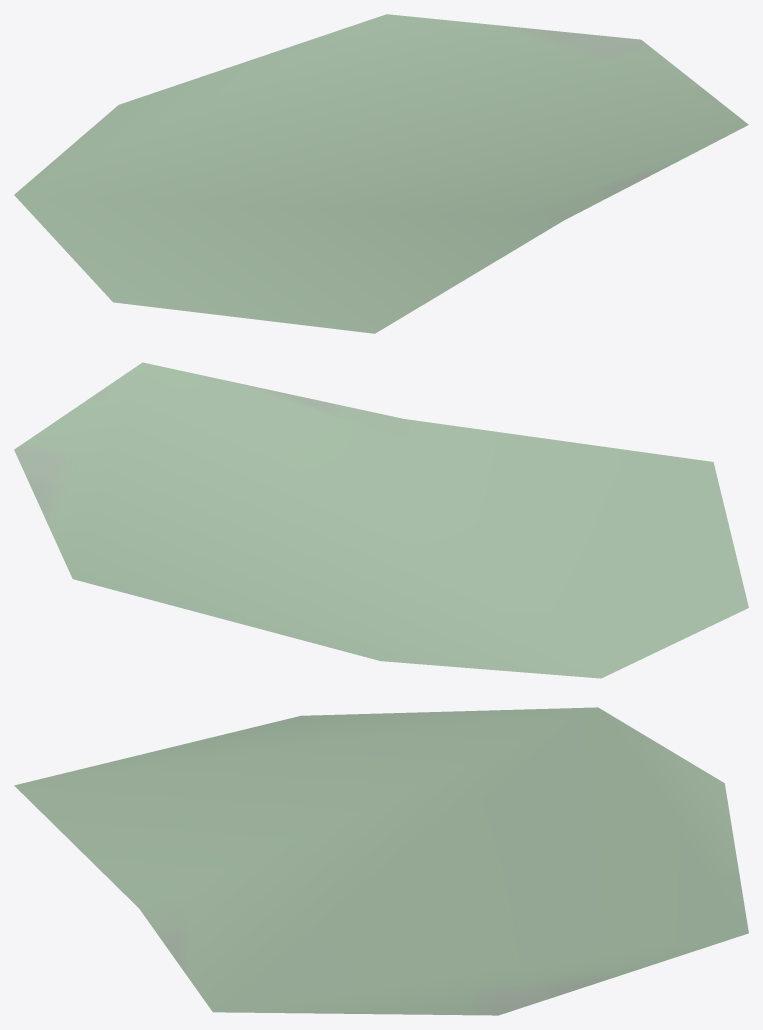
Rendered from TROLLHOLE02_HOLECAP59.fbx.
3 renders of one model, top to bottom at view 1: azimuth 30°, elevation 25°; view 2: azimuth 150°, elevation 25°; view 3: azimuth 270°, elevation 25°, orthographic. The views are drawn at different scales.
Parts seen in each view (by area): view 1: TROLLHOLE02_HOLECAP59; view 2: TROLLHOLE02_HOLECAP59; view 3: TROLLHOLE02_HOLECAP59.
Boxes of the visible parts, box(x1,y1,x2,y2) form: TROLLHOLE02_HOLECAP59: box(14, 14, 748, 333); TROLLHOLE02_HOLECAP59: box(14, 362, 748, 678); TROLLHOLE02_HOLECAP59: box(14, 707, 748, 1015).
Size of the model in its own units: 21461 by 1931 by 17947.
Materials: 1 (1 with a texture image).
